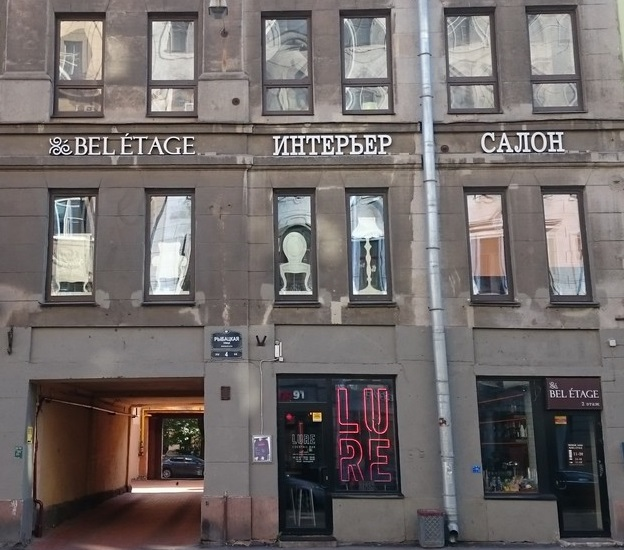arch: (24, 375, 209, 546)
door: (548, 413, 604, 535), (280, 408, 329, 540)
signboard: (48, 134, 197, 155), (271, 133, 391, 154), (548, 376, 600, 409), (481, 131, 565, 151)
window: (477, 378, 544, 497), (329, 375, 390, 489), (525, 4, 586, 114), (43, 186, 99, 300), (444, 6, 497, 114), (143, 190, 194, 301), (50, 13, 101, 121), (545, 186, 590, 305), (146, 13, 197, 116), (340, 9, 390, 112), (347, 186, 391, 302), (466, 189, 510, 298), (262, 12, 309, 113), (275, 188, 314, 296)
